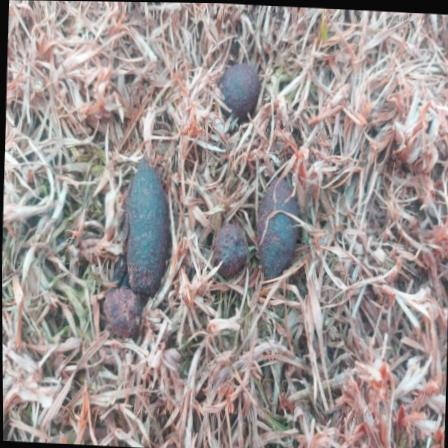dog-poop: (102, 145, 174, 354), (208, 179, 313, 279), (201, 51, 259, 124)
